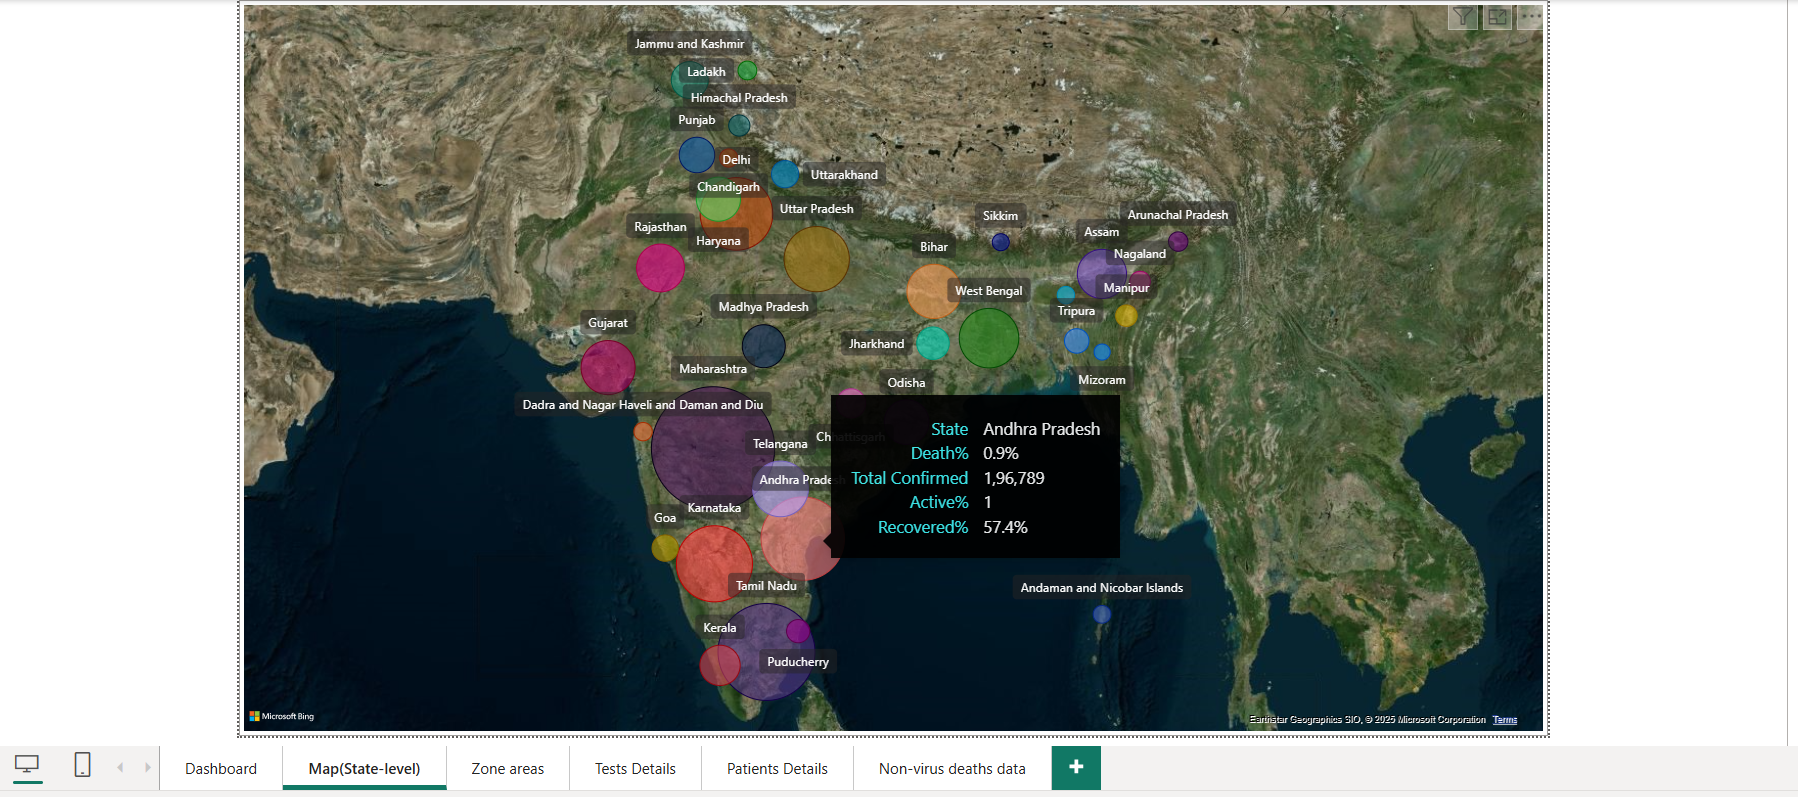

Layout of this report page (visuals, bound fields, positions):
{"tool":"powerbi","page":{"name":"Map(State-level)","canvas":[1280,720],"ordinal":1},"visuals":[{"type":"map","fields":{"Category":["state_level_2020.State"],"Size":["state_level_2020.Total Confirmed"],"Series":["state_level_2020.Death%"]},"box":[0,0,1280.3,720.2],"z":0}]}

Visuals, with their boxes on the page's 1280x720 design canvas (x1, y1, x2, y2). These are canvas units, not pixel positions in the 1798x797 screenshot, which may show the page scaled, cropped or inside an application window:
map - state_level_2020.State x state_level_2020.Total Confirmed: [left=0, top=0, right=1280, bottom=720]
